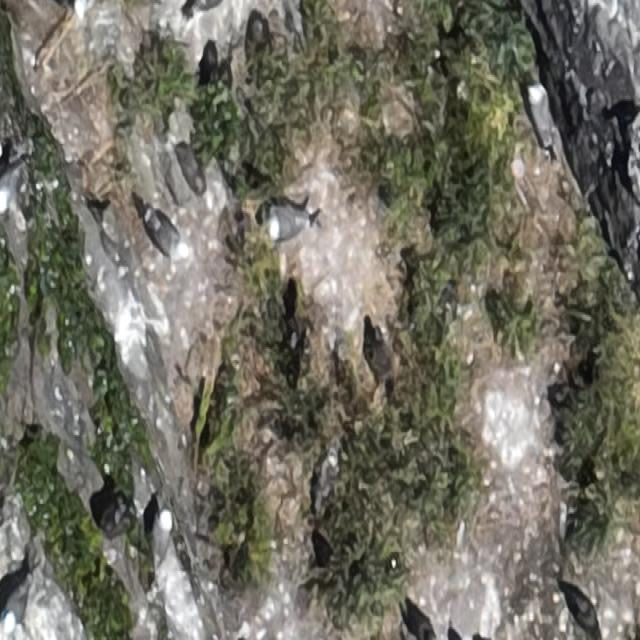umineko: (144, 206, 188, 260), (5, 569, 34, 634), (1, 154, 27, 209), (150, 510, 169, 569), (269, 212, 309, 240), (530, 88, 549, 134)
